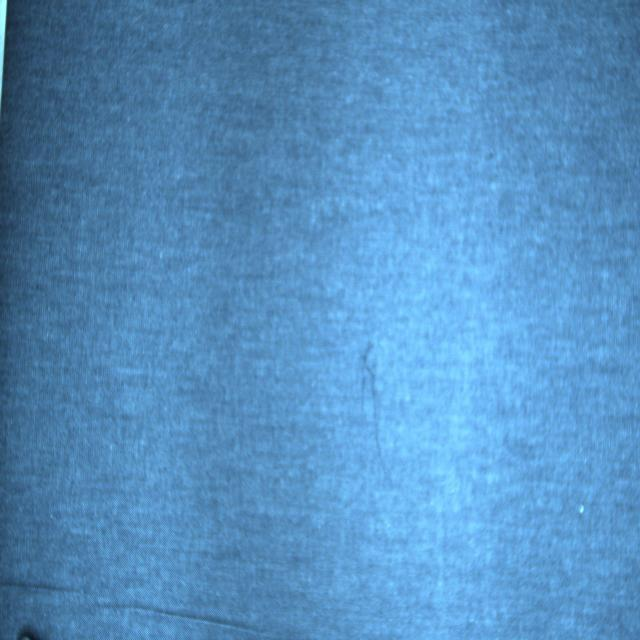defect: (363, 346, 405, 496)
